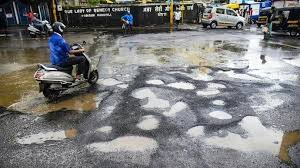potholes: (187, 83, 240, 120)
